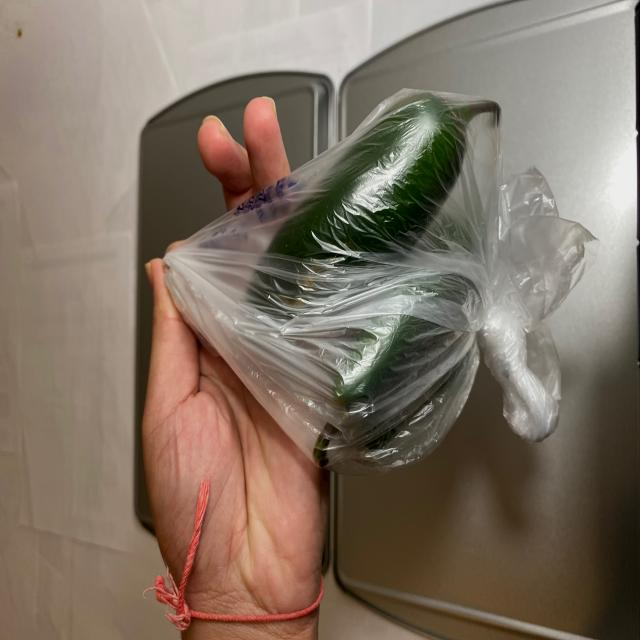chilli: (238, 96, 508, 462)
